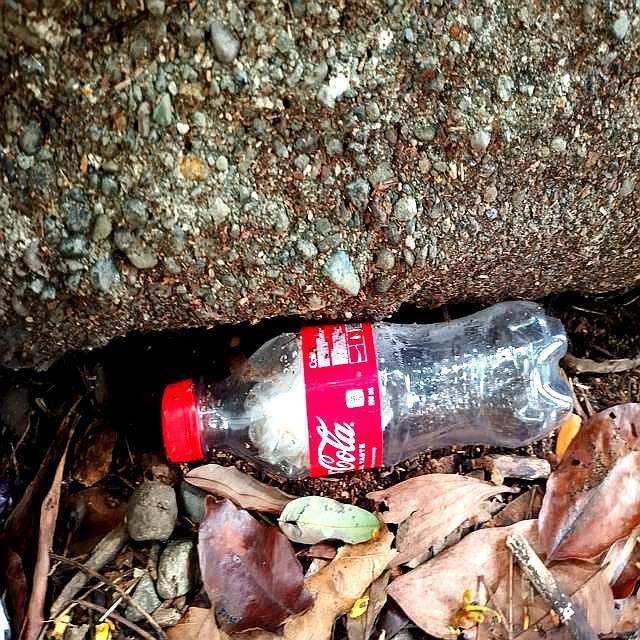Non-biodegradable: (157, 295, 585, 481)
